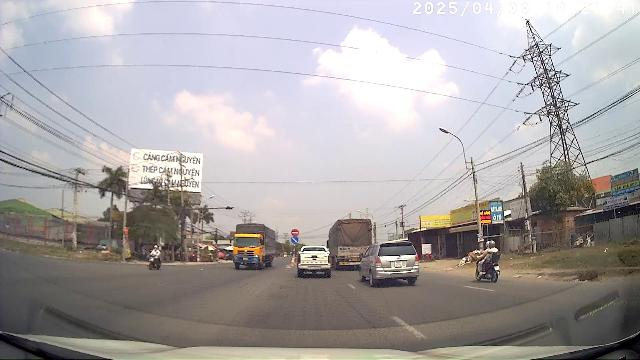102-cam-di-nguoc-chieu: (292, 229, 298, 236)
302a-huong-phai-di-vong-chuong-ngai-vat-1: (292, 236, 298, 243)
